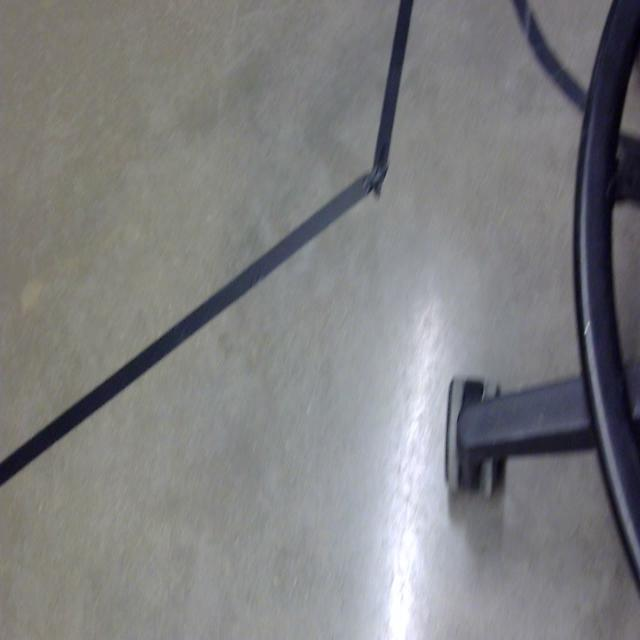tape: (0, 0, 435, 523), (497, 0, 640, 168)
